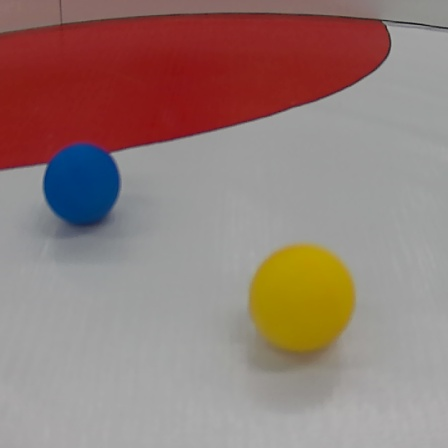blue: (44, 140, 119, 229)
red_base: (1, 10, 392, 157)
yellow: (247, 241, 359, 356)
